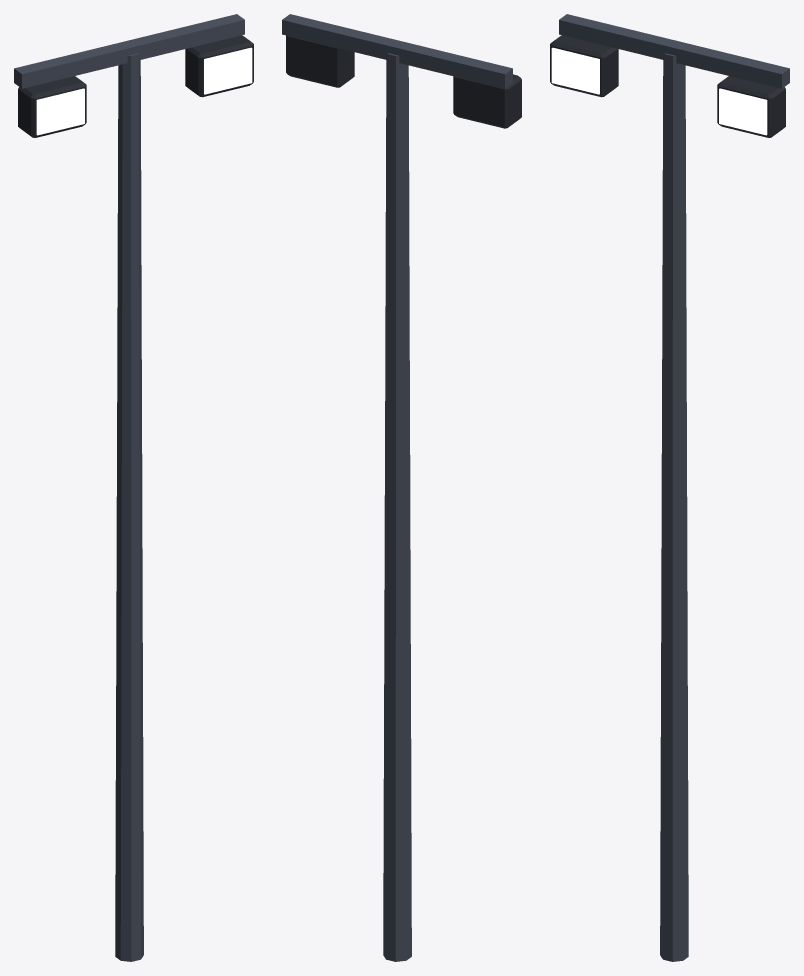
Rendered from floodlight_pole.glb.
3 views of the same model, side by side, from view 1: azimuth 30°, elevation 25°; view 2: azimuth 150°, elevation 25°; view 3: azimuth 330°, elevation 25° (orthographic).
Visible parts, largest first — view 1: floodlight_pole; view 2: floodlight_pole; view 3: floodlight_pole.
Boxes of the visible parts, x1,y1,x2,y2 form: floodlight_pole: (14,14,253,961); floodlight_pole: (282,14,521,961); floodlight_pole: (550,14,789,961).
Size of the model in its own units: 1.6 by 6.25 by 0.2731.
